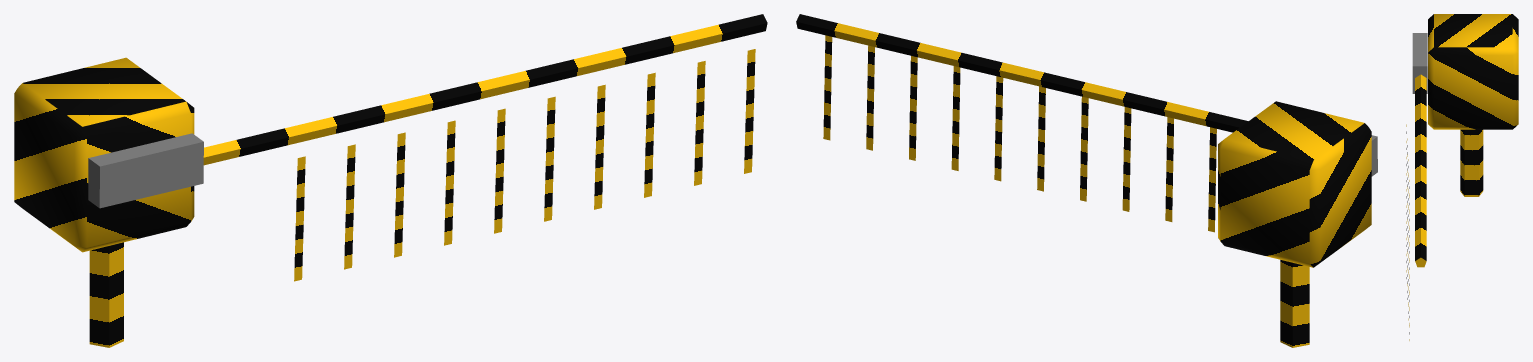
Rendered from HUMI_ANI01_R.glb.
3 renders of one model, left to right at view 1: azimuth 30°, elevation 25°; view 2: azimuth 150°, elevation 25°; view 3: azimuth 270°, elevation 25°, orthographic. The views are drawn at different scales.
Parts seen in each view (by area): view 1: Model, Joint_1, Joint_11; view 2: Model, Joint_11, Joint_1; view 3: Model, Joint_1, Joint_11.
Boxes of the visible parts, x1,y1,x2,y2 form: Model: (14,57,194,347); Joint_1: (88,14,767,208); Joint_11: (294,49,755,281); Model: (1218,101,1371,347); Joint_11: (823,35,1216,232); Joint_1: (796,14,1377,176); Model: (1428,14,1518,196); Joint_1: (1412,33,1427,267); Joint_11: (1406,124,1409,340).
Bounding box in the file's own units: 16.98 × 5.91 × 3.72.
Materials: 4 (4 with a texture image).
